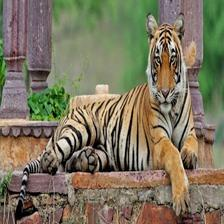tiger: (18, 13, 201, 205)
